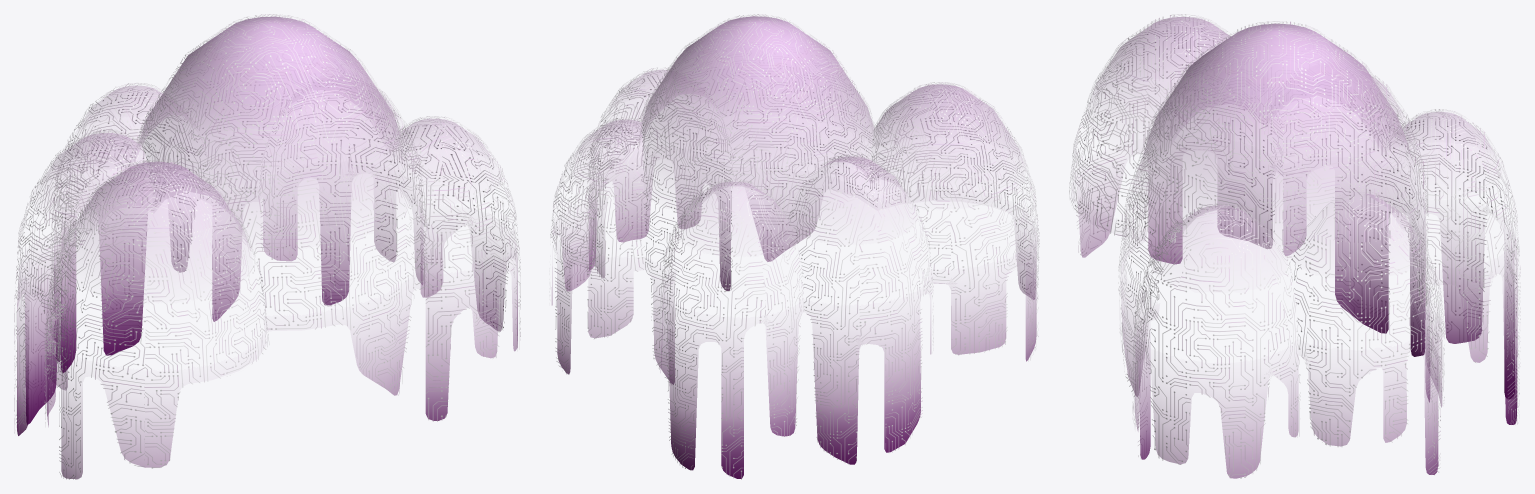
File: dome02-art.glb
The picture shows the model from 3 angles, left to right: view 1: azimuth 30°, elevation 25°; view 2: azimuth 150°, elevation 25°; view 3: azimuth 270°, elevation 25°; orthographic projection. The views are drawn at different scales.
Parts seen in each view (by area): view 1: Dome02_Art; view 2: Dome02_Art; view 3: Dome02_Art.
Part boxes in pixels (bbox=[...]): Dome02_Art: bbox=[14, 14, 520, 479]; Dome02_Art: bbox=[550, 14, 1039, 479]; Dome02_Art: bbox=[1069, 14, 1520, 478].
Size of the model in its own units: 41.38 by 34.61 by 34.2.
Materials: 2 (2 with a texture image).
